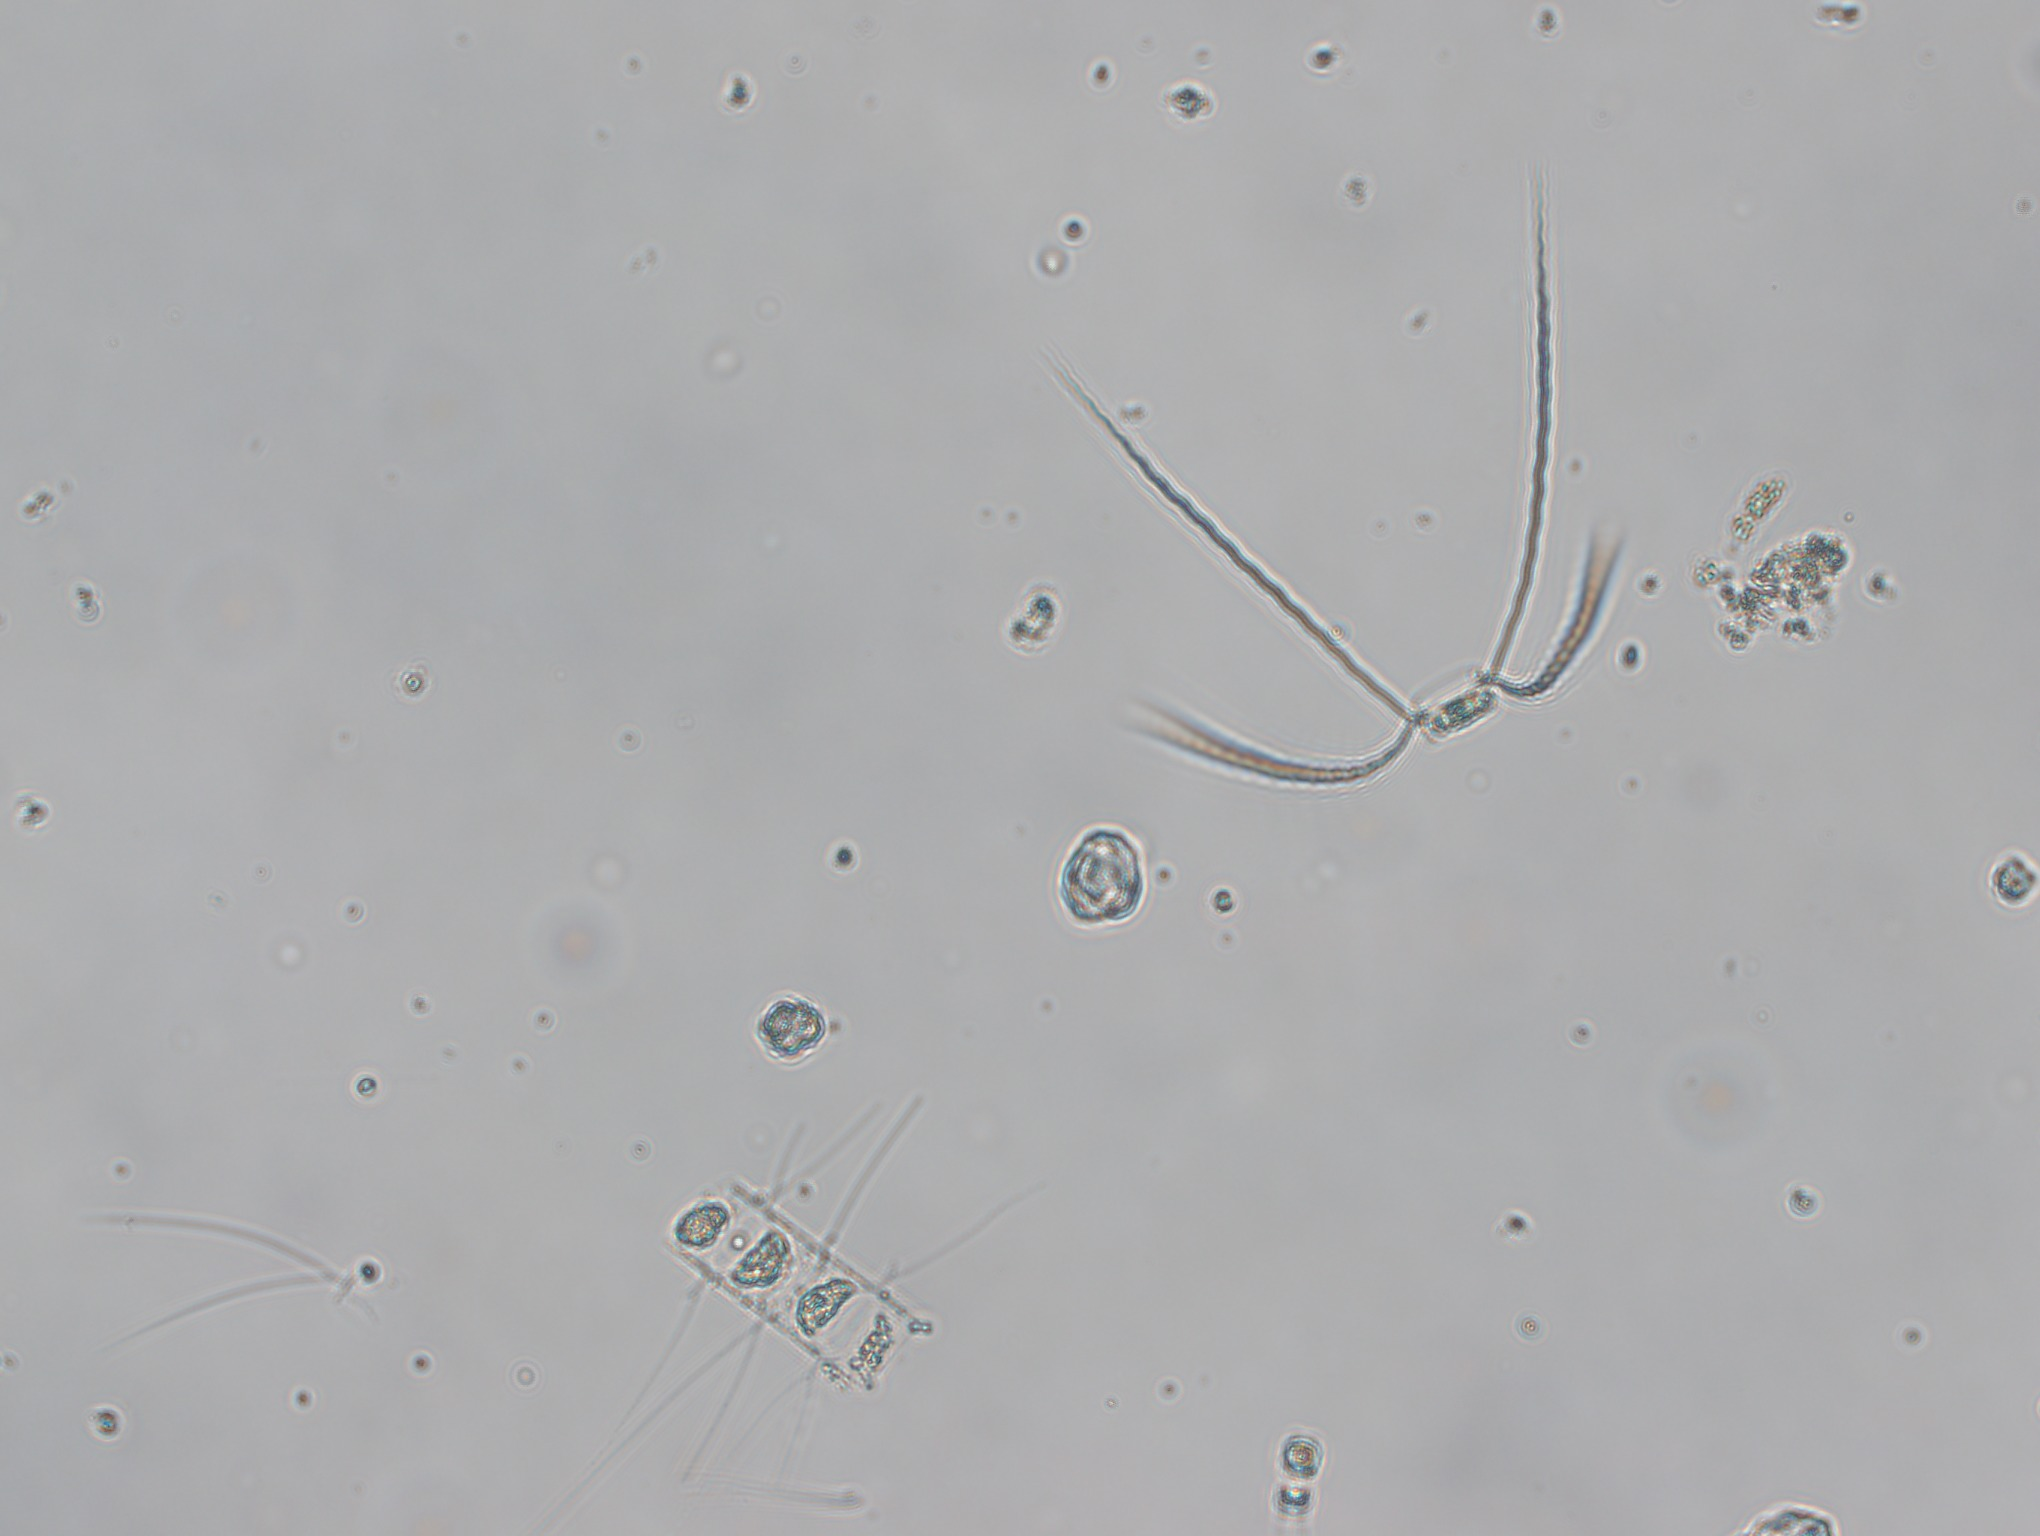chaetoceros: (1056, 169, 1627, 791), (597, 1096, 1035, 1483)
